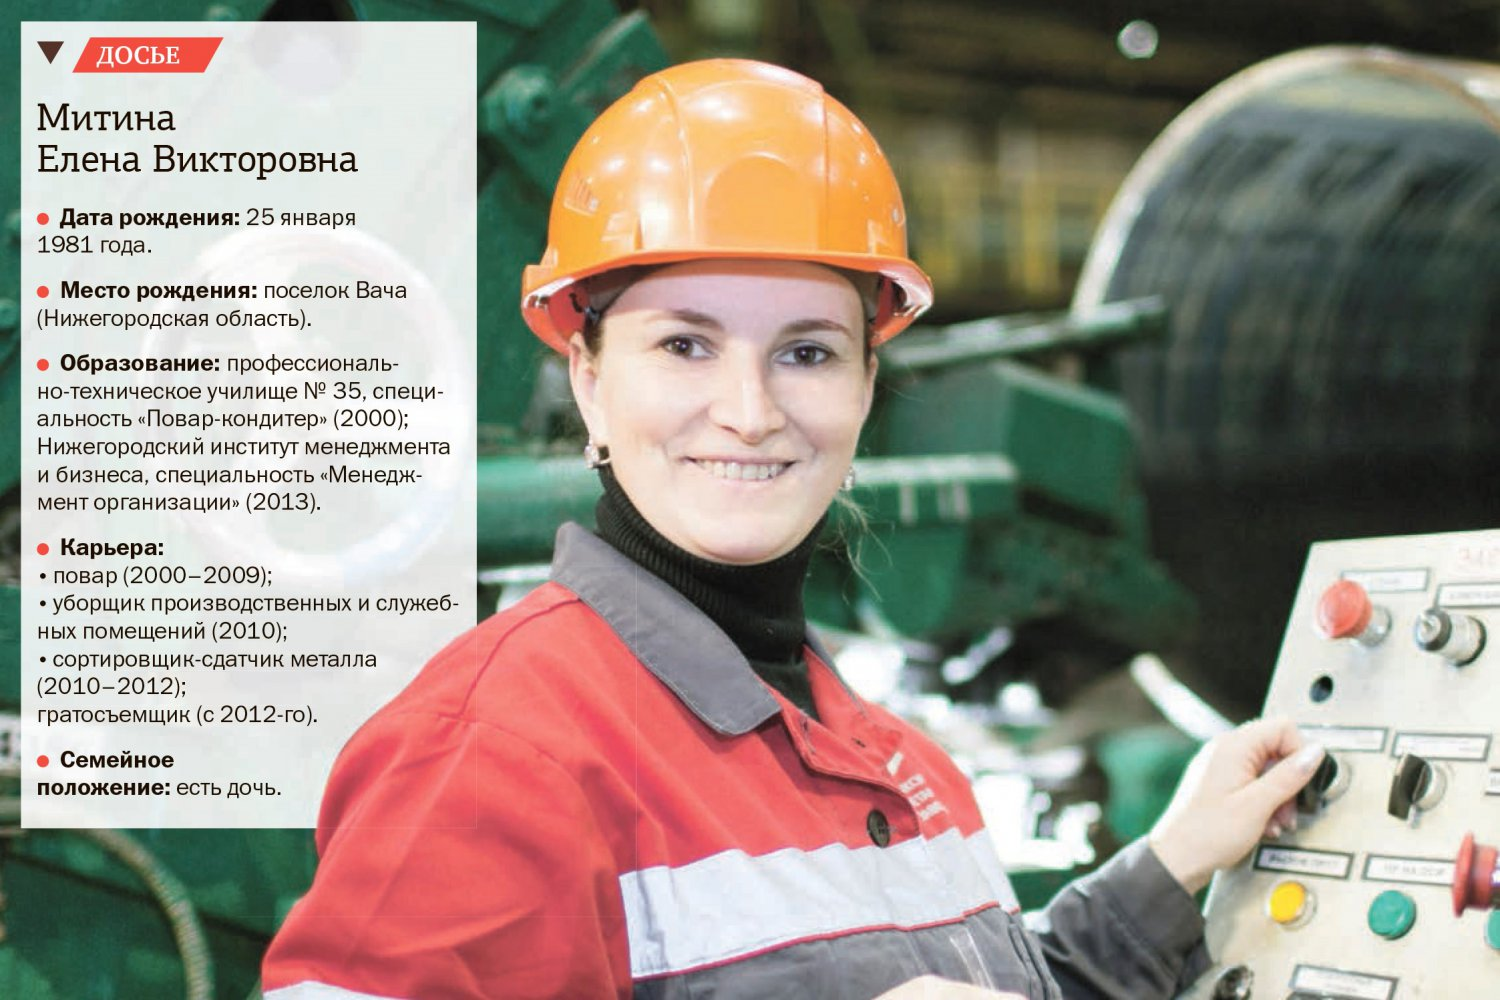person: (244, 57, 1329, 1000)
